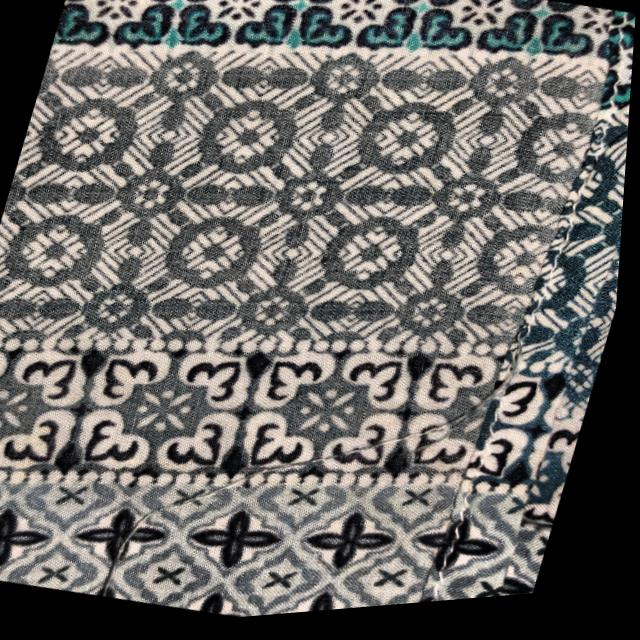Stitch: (174, 274, 555, 572), (72, 498, 182, 611)
